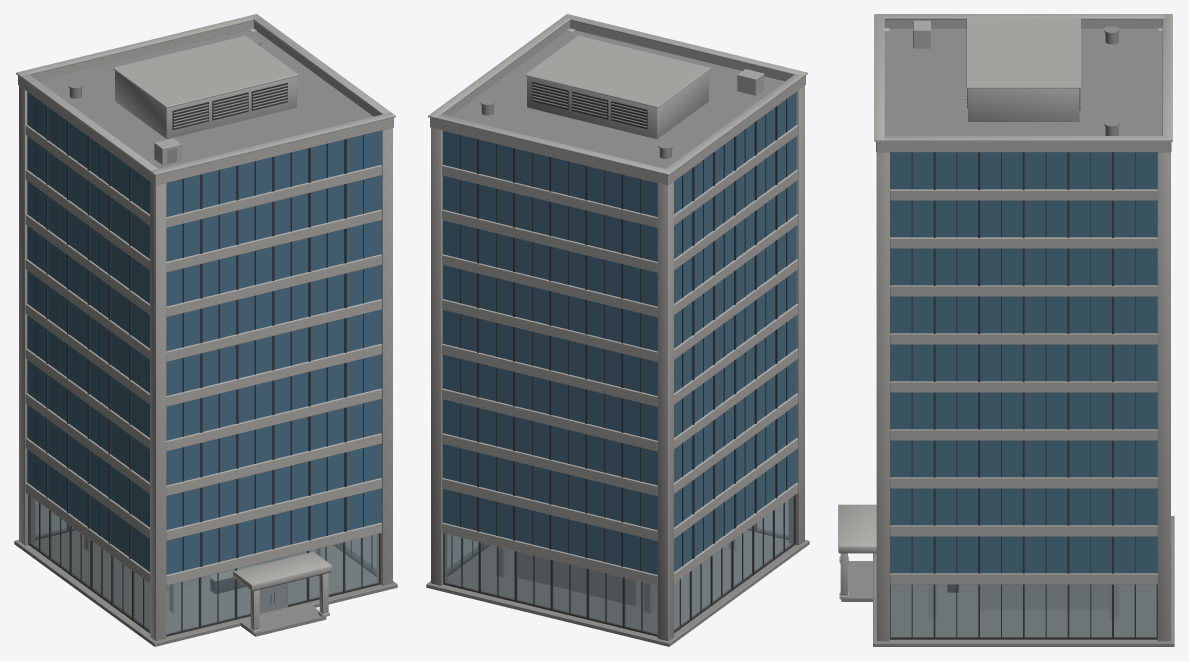
Rendered from OfficeTower.fbx.
The picture shows the model from 3 angles, left to right: view 1: azimuth 30°, elevation 25°; view 2: azimuth 150°, elevation 25°; view 3: azimuth 270°, elevation 25°; orthographic projection. The views are drawn at different scales.
Visible parts, largest first — view 1: OfficeTower_Mesh; view 2: OfficeTower_Mesh; view 3: OfficeTower_Mesh.
Part boxes in pixels (box(x1,y1,x2,y2)): OfficeTower_Mesh: box(14, 14, 397, 646); OfficeTower_Mesh: box(426, 14, 809, 646); OfficeTower_Mesh: box(838, 14, 1174, 646).
Bounding box in the file's own units: 20.5 × 39.85 × 22.85.
